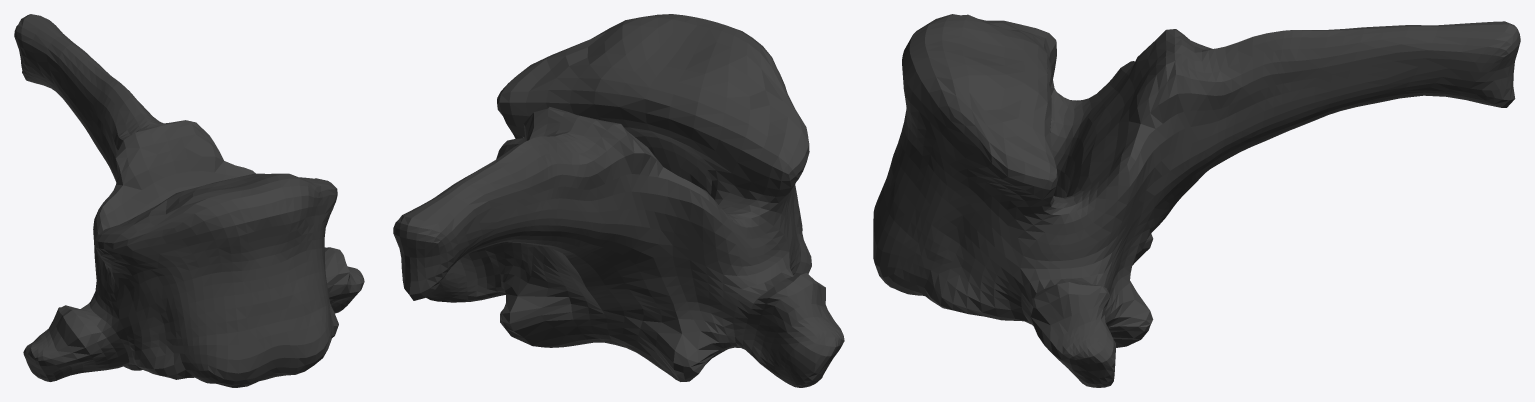
3 renders of one model, left to right at view 1: azimuth 30°, elevation 25°; view 2: azimuth 150°, elevation 25°; view 3: azimuth 270°, elevation 25°, orthographic. The views are drawn at different scales.
Visible parts, largest first — view 1: B_T5; view 2: B_T5; view 3: B_T5.
Part boxes in pixels (x1,y1,x2,y2): B_T5: [14, 14, 364, 387]; B_T5: [393, 14, 844, 387]; B_T5: [873, 14, 1520, 387].
Size of the model in its own units: 0.00272 by 0.00178 by 0.00358.
Materials: 1 (1 with a texture image).
